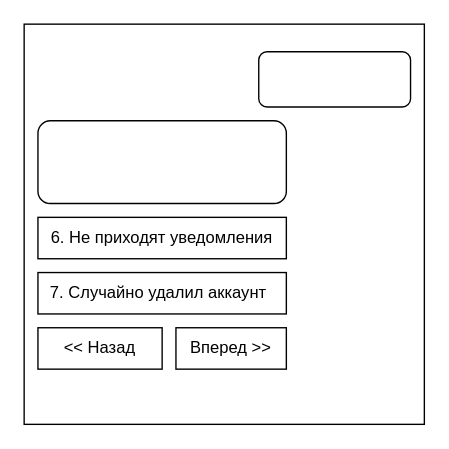
Some shapes in this 449 by 449 pixel diagram are drawn without their labels. The shapes that lost their labels are listed below. From the top down, each one's centre as x and y in pixels, then its label:
the point at 334,78: База данных
the point at 161,161: Здесь представлен заготовленный список ответов на типичные вопросы
